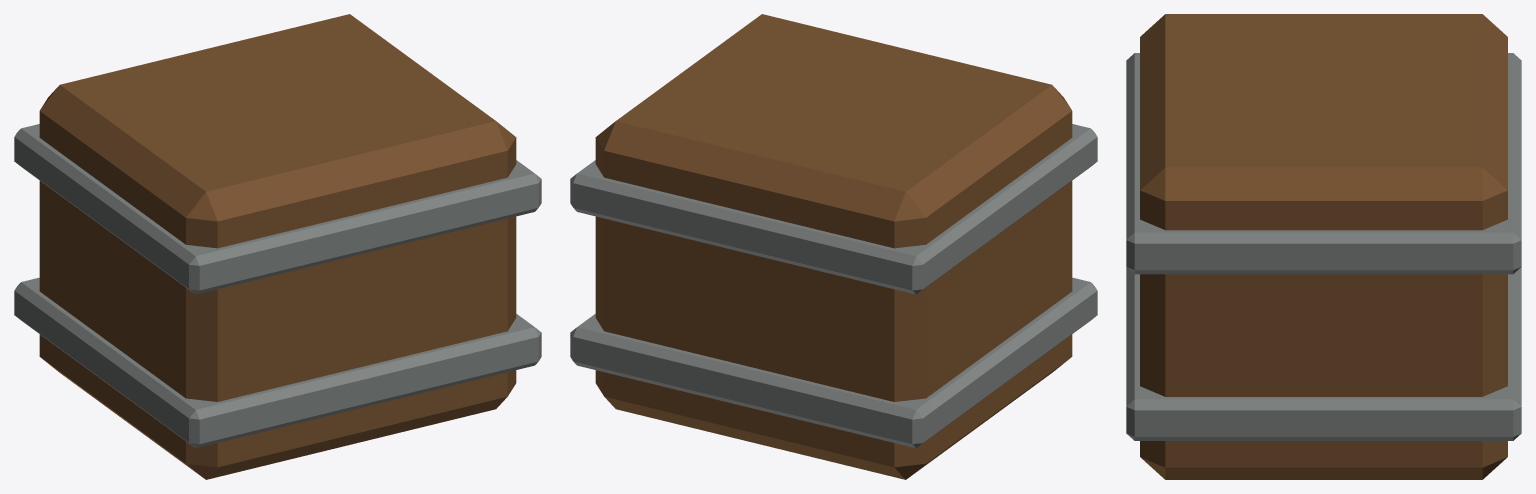
The model's file is crate.rustic.glb.
3 views of the same model, side by side, from view 1: azimuth 30°, elevation 25°; view 2: azimuth 150°, elevation 25°; view 3: azimuth 270°, elevation 25° (orthographic). The views are drawn at different scales.
Visible parts, largest first — view 1: crate.body, crate.band.low, crate.band.high; view 2: crate.body, crate.band.low, crate.band.high; view 3: crate.body, crate.band.high, crate.band.low.
Part boxes in pixels (bbox=[...]): crate.body: bbox=[39, 14, 516, 479]; crate.band.low: bbox=[14, 277, 541, 448]; crate.band.high: bbox=[14, 124, 541, 294]; crate.body: bbox=[595, 14, 1072, 479]; crate.band.low: bbox=[570, 277, 1097, 448]; crate.band.high: bbox=[570, 124, 1097, 294]; crate.body: bbox=[1140, 14, 1507, 479]; crate.band.high: bbox=[1126, 53, 1521, 274]; crate.band.low: bbox=[1126, 267, 1521, 440].
Bounding box in the file's own units: 0.96 × 0.75 × 0.86.
